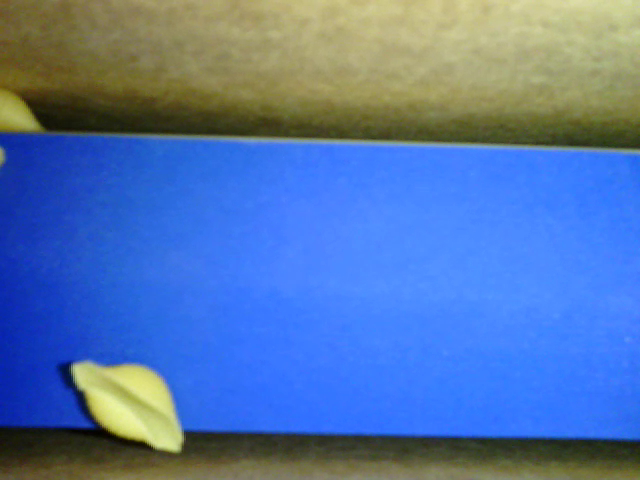shell: (71, 360, 183, 453)
